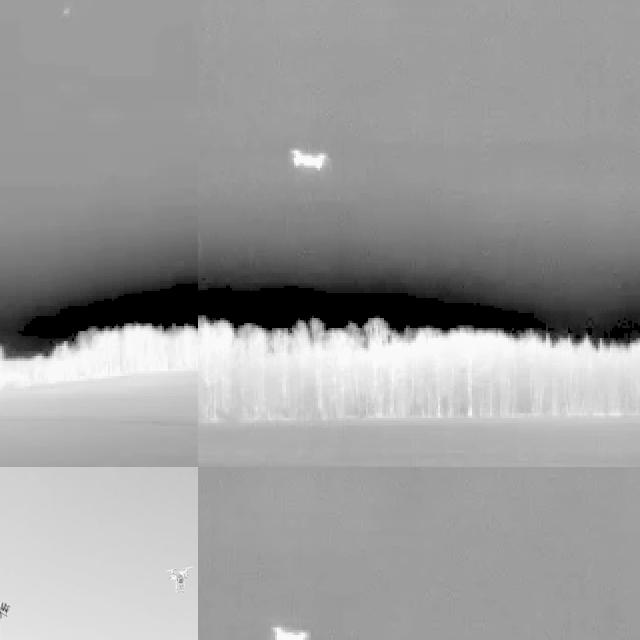0: (54, 0, 76, 25)
1: (278, 144, 338, 180), (260, 622, 320, 640)
drone: (170, 562, 193, 591)
